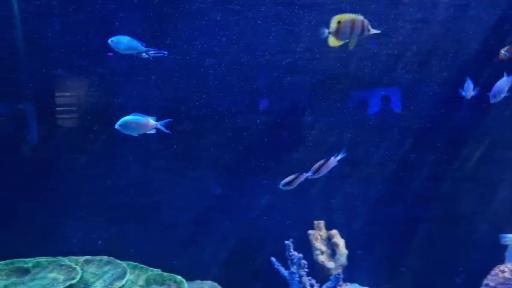Fish: (321, 14, 380, 49), (108, 36, 166, 58), (115, 114, 171, 136), (308, 149, 347, 178), (489, 73, 511, 103), (280, 173, 310, 189), (460, 78, 478, 99), (136, 51, 167, 59), (498, 45, 512, 60)
